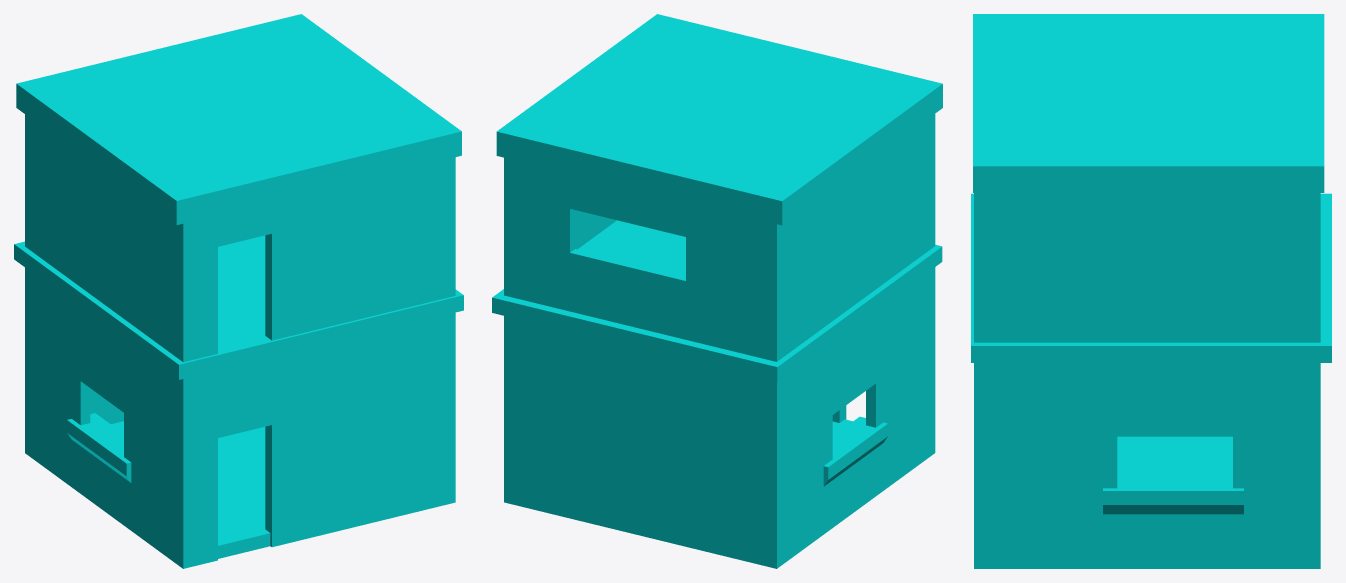
Rendered from SM_Bld_Building_07_Collision.fbx.
3 views of the same model, side by side, from view 1: azimuth 30°, elevation 25°; view 2: azimuth 150°, elevation 25°; view 3: azimuth 270°, elevation 25° (orthographic). The views are drawn at different scales.
Parts seen in each view (by area): view 1: SM_Bld_Building_07_Collision; view 2: SM_Bld_Building_07_Collision; view 3: SM_Bld_Building_07_Collision.
Boxes of the visible parts, x1,y1,x2,y2 form: SM_Bld_Building_07_Collision: (14, 14, 463, 568); SM_Bld_Building_07_Collision: (492, 14, 942, 568); SM_Bld_Building_07_Collision: (971, 14, 1331, 568).
Bounding box in the file's own units: 539 × 667 × 538.
